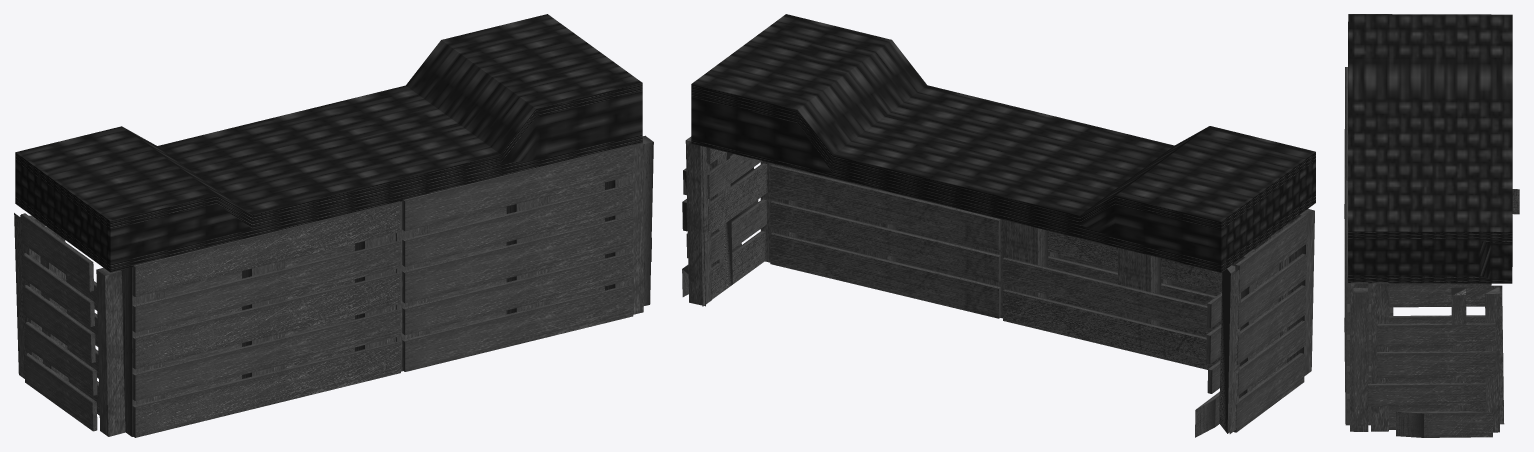
File: desk2.obj
3 views of the same model, side by side, from view 1: azimuth 30°, elevation 25°; view 2: azimuth 150°, elevation 25°; view 3: azimuth 270°, elevation 25° (orthographic). The views are drawn at different scales.
Parts seen in each view (by area): view 1: Object.2, Object.8, Object.1, Object.6; view 2: Object.8, Object.2, Object.1, Object.6; view 3: Object.8, Object.2, Object.7.
Boxes of the visible parts, bbox=[...] form: Object.2: bbox=[68, 135, 653, 437]; Object.8: bbox=[15, 14, 642, 272]; Object.1: bbox=[14, 213, 97, 431]; Object.6: bbox=[96, 267, 125, 436]; Object.8: bbox=[691, 14, 1315, 272]; Object.2: bbox=[682, 136, 1289, 437]; Object.1: bbox=[1219, 214, 1307, 433]; Object.6: bbox=[1286, 209, 1314, 376]; Object.8: bbox=[1348, 14, 1512, 283]; Object.2: bbox=[1344, 67, 1519, 432]; Object.7: bbox=[1396, 411, 1492, 437].
Bounding box in the file's own units: 30.63 × 12.07 × 9.6.
Materials: 2 (2 with a texture image).
